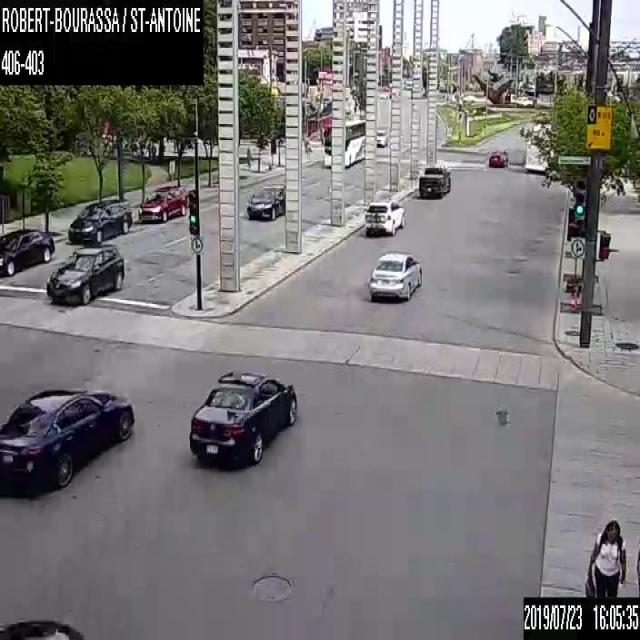bus: (323, 117, 364, 168), (523, 120, 554, 170)
pedestrian: (584, 519, 626, 596), (245, 145, 250, 168)
vehicle: (0, 386, 135, 497), (189, 371, 297, 469), (46, 243, 124, 304), (67, 198, 132, 245), (368, 249, 421, 299), (0, 227, 55, 274), (138, 184, 188, 222), (0, 617, 84, 639), (364, 197, 404, 235), (247, 184, 284, 220), (418, 163, 450, 199), (488, 148, 508, 165), (377, 128, 388, 147), (516, 95, 532, 106)
